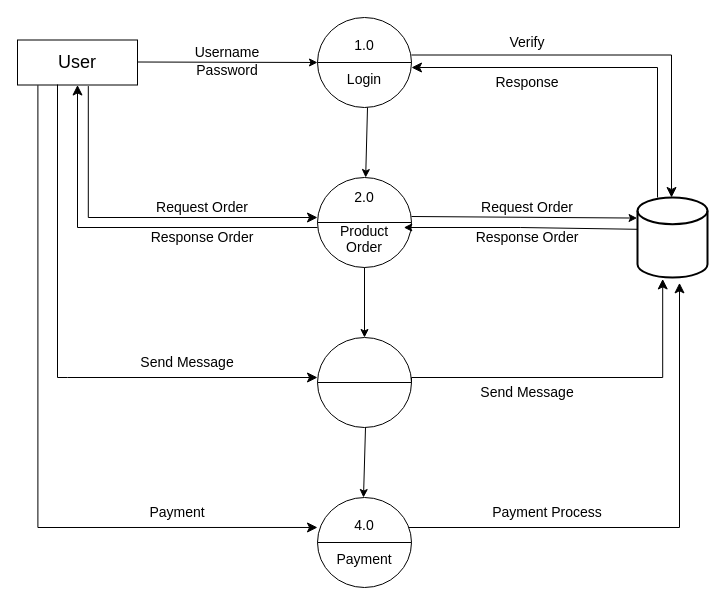
Some shapes in this 726 by 605 pixel diagram are drawn without their labels. Each missing label, with the centre of its shape:
"3.0 Feedback" goes at point (364, 382).
"Database" goes at point (672, 237).
